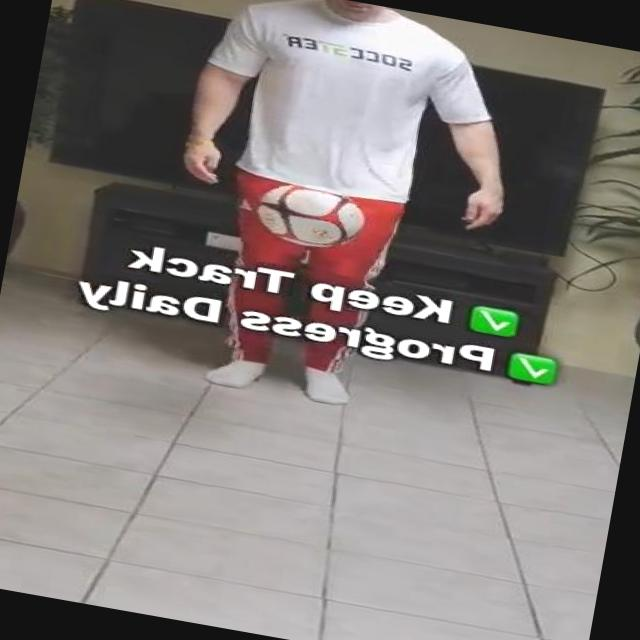Soccer Ball: (245, 173, 372, 256)
